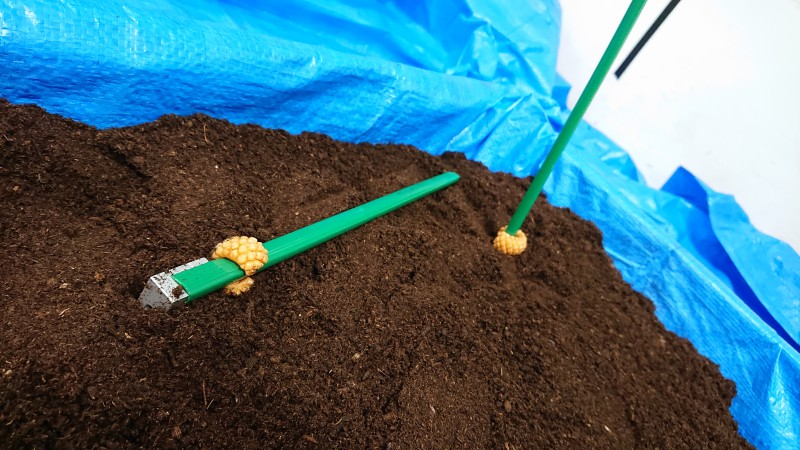eggs: (208, 229, 272, 299), (488, 216, 532, 260)
